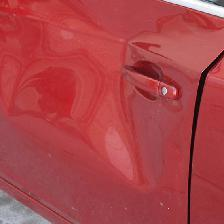dent: (0, 0, 173, 206)
